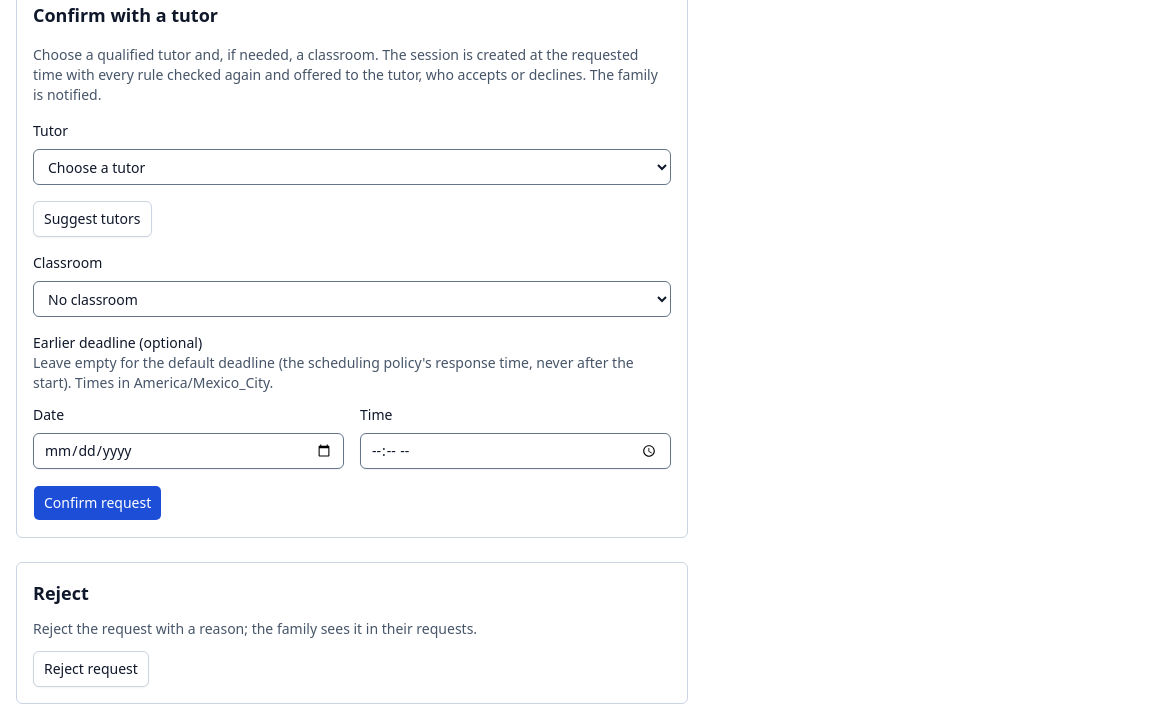
Test: /schedule/requests/:id › needs a tutor, then confirms and links the offered session
The image size is (1152, 720).
(page scrolled)
Click the button "Confirm request" at (98, 503), box [33,485,162,521]
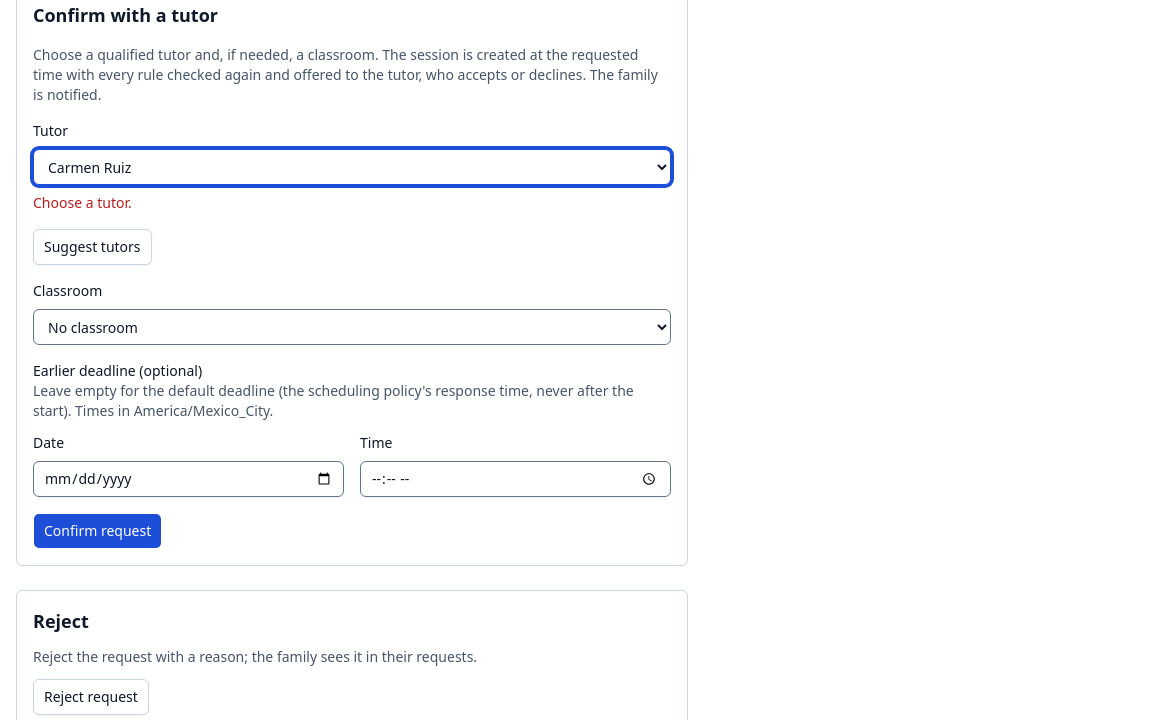
expect the element that starts with "Review session request" shows "Choose a tutor.": met, box [33,193,132,212]
Select "Carmen Ruiz" in the dropdown labelled "Tutor" at (352, 167), box [33,149,671,185]
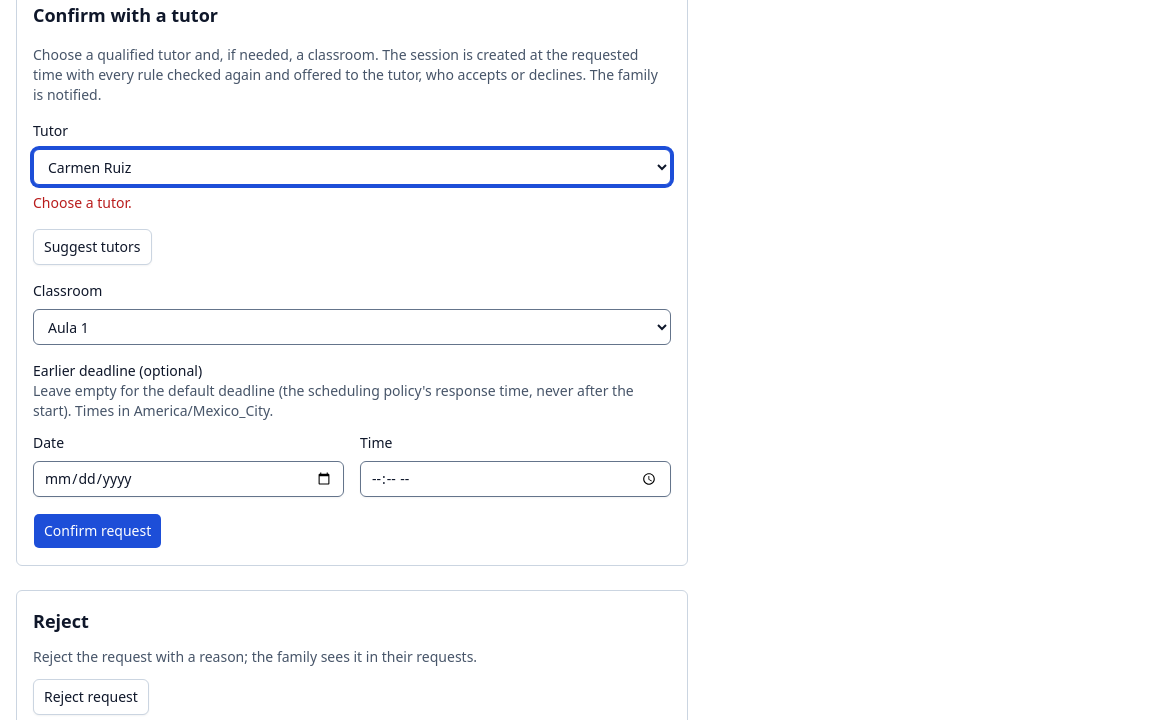
Select "Aula 1" in the dropdown labelled "Classroom" at (352, 327), box [33,309,671,345]
Click the button "Confirm request" at (98, 531), box [33,513,162,549]
(page scrolled)
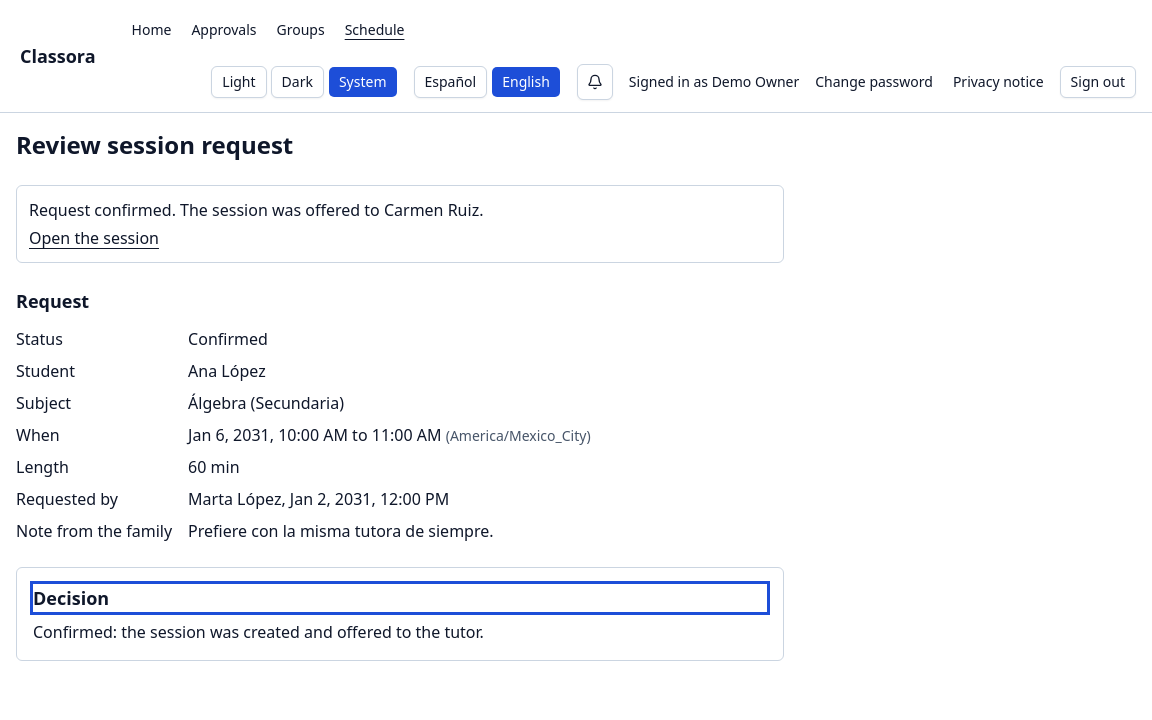
expect the link "Open the session" is shown: met, box [29,227,159,249]
